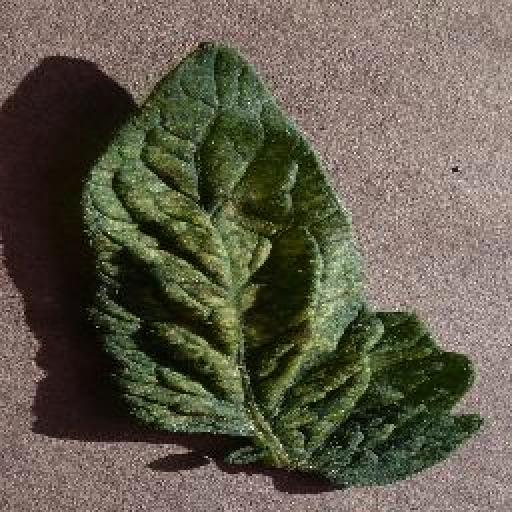disease_tomato: (82, 38, 482, 490)
